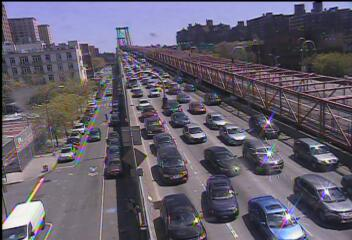neg: (120, 51, 163, 107), (123, 154, 164, 209), (42, 41, 82, 95), (193, 132, 226, 175), (71, 118, 101, 157), (210, 61, 239, 98), (262, 90, 288, 124)
